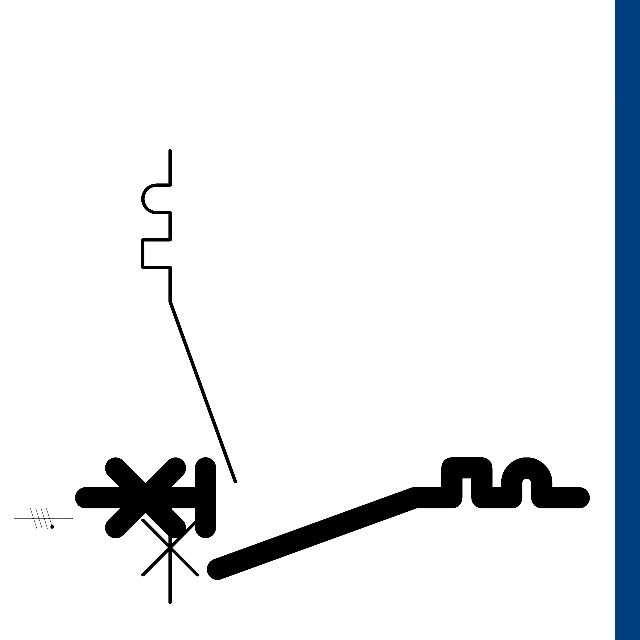interruptor_termomagnetico: (72, 455, 591, 582), (131, 139, 247, 613)
